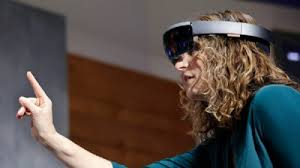hololens: (163, 20, 273, 63)
